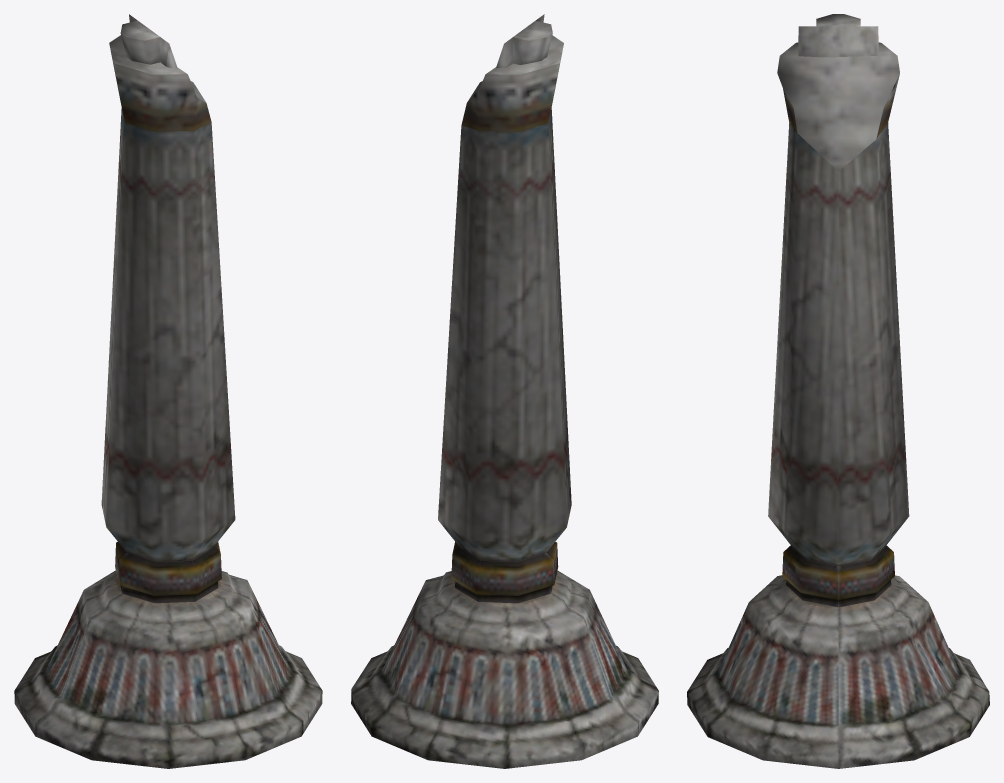
The model's file is SM_EN_2005_shizhuzi04.FBX.
The picture shows the model from 3 angles, left to right: view 1: azimuth 30°, elevation 25°; view 2: azimuth 150°, elevation 25°; view 3: azimuth 270°, elevation 25°; orthographic projection.
Visible parts, largest first — view 1: SM_EN_2005_shizhuzi04; view 2: SM_EN_2005_shizhuzi04; view 3: SM_EN_2005_shizhuzi04.
Part boxes in pixels (left/top/right/bottom): SM_EN_2005_shizhuzi04: left=14, top=14, right=322, bottom=768; SM_EN_2005_shizhuzi04: left=351, top=14, right=658, bottom=768; SM_EN_2005_shizhuzi04: left=687, top=14, right=989, bottom=768.
Bounding box in the file's own units: 101 × 247 × 101.
